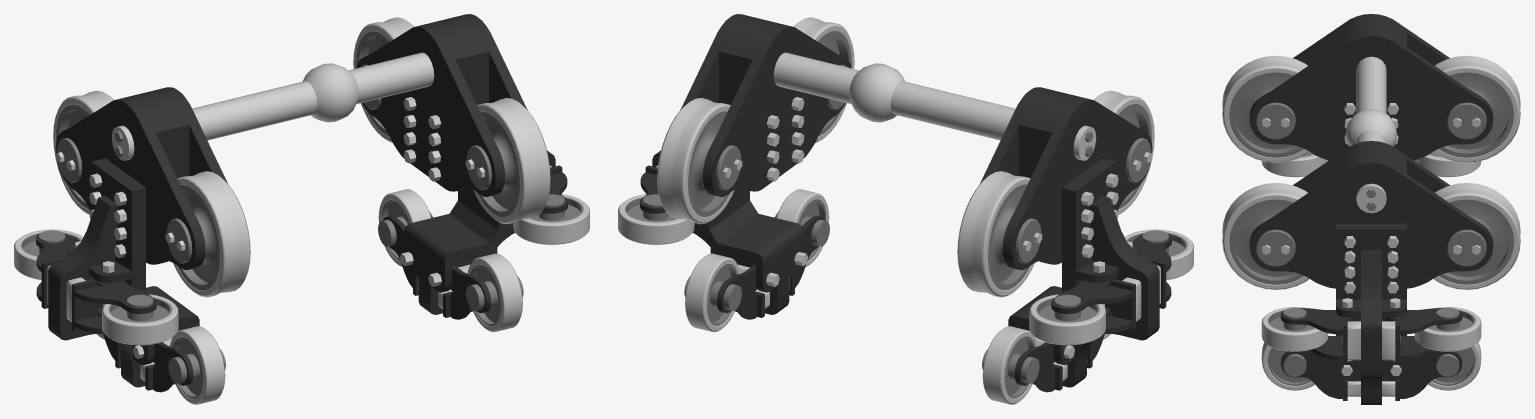
The model's file is front_bogie.glb.
3 views of the same model, side by side, from view 1: azimuth 30°, elevation 25°; view 2: azimuth 150°, elevation 25°; view 3: azimuth 270°, elevation 25° (orthographic). The views are drawn at different scales.
Visible parts, largest first — view 1: BogieFront; view 2: BogieFront; view 3: BogieFront.
Boxes of the visible parts, <box> form: BogieFront: <box>14,14,589,404</box>; BogieFront: <box>618,14,1193,404</box>; BogieFront: <box>1222,14,1520,404</box>.
Size of the model in its own units: 2.08 by 1.13 by 1.25.
Materials: 1 (1 with a texture image).
